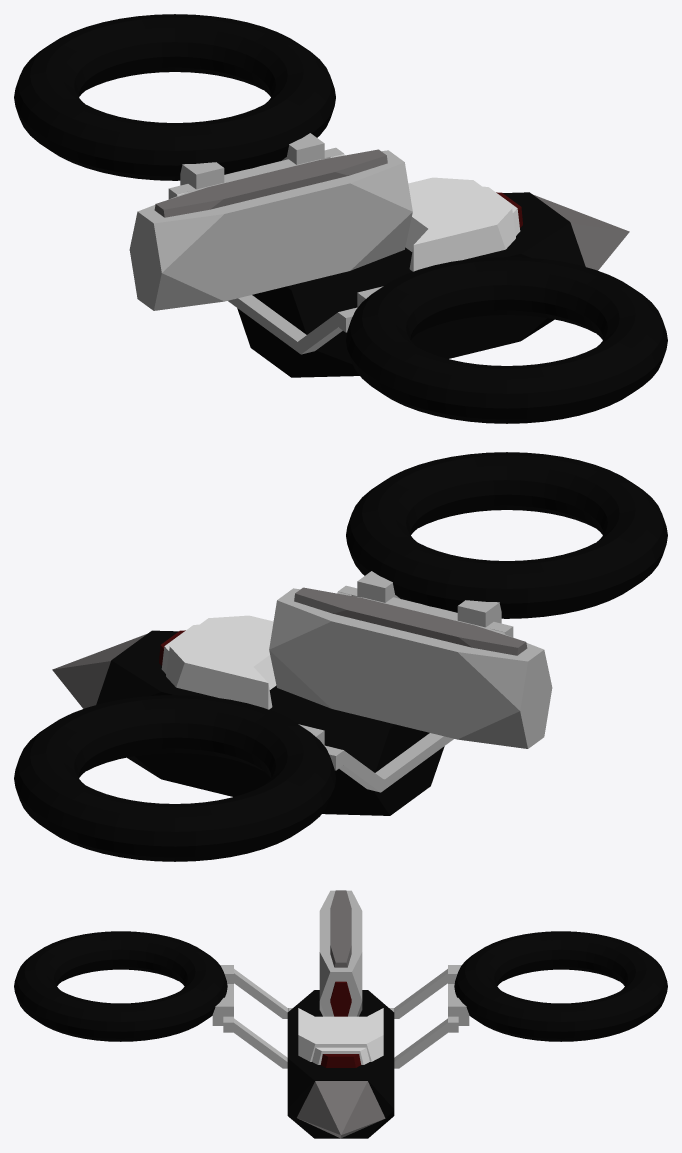
File: DroneChassis.fbx
The picture shows the model from 3 angles, top to bottom: view 1: azimuth 30°, elevation 25°; view 2: azimuth 150°, elevation 25°; view 3: azimuth 270°, elevation 25°; orthographic projection. The views are drawn at different scales.
Visible parts, largest first — view 1: Drone Prop Left, Drone Prop Right, Chassis Base 2, Chassis Base, Cockpit1, Chassis Base 4, Chassis Rail 2, Cone, Chassis Rail Right 3, Chassis Rail Right 1, Chassis Rail Right 2; view 2: Drone Prop Right, Drone Prop Left, Chassis Base 2, Chassis Base, Cockpit1, Chassis Base 4, Chassis Rail 2, Cone, Chassis Rail Left 3, Chassis Rail Left 1, Chassis Rail Left 2; view 3: Drone Prop Right, Drone Prop Left, Chassis Base, Cone, Chassis Base 2, Cockpit1, Chassis Rail 2, Chassis Rail 1, Chassis Base 4, Chassis Base 3, Cockpit 2, Cockpit 3 (+2 smaller).
Part boxes in pixels (x1=…): Drone Prop Left: x1=346, y1=257, x2=667, y2=423; Drone Prop Right: x1=14, y1=14, x2=335, y2=180; Chassis Base 2: x1=129, y1=150, x2=412, y2=310; Chassis Base: x1=237, y1=192, x2=585, y2=377; Cockpit1: x1=405, y1=177, x2=515, y2=271; Chassis Base 4: x1=154, y1=149, x2=387, y2=217; Chassis Rail 2: x1=176, y1=191, x2=342, y2=354; Cone: x1=533, y1=194, x2=629, y2=270; Chassis Rail Right 3: x1=180, y1=162, x2=224, y2=189; Chassis Rail Right 1: x1=168, y1=147, x2=343, y2=199; Chassis Rail Right 2: x1=281, y1=133, x2=324, y2=164; Drone Prop Right: x1=14, y1=695, x2=335, y2=861; Drone Prop Left: x1=346, y1=452, x2=667, y2=618; Chassis Base 2: x1=269, y1=588, x2=552, y2=748; Chassis Base: x1=96, y1=630, x2=444, y2=815; Cockpit1: x1=166, y1=615, x2=276, y2=709; Chassis Base 4: x1=294, y1=587, x2=527, y2=655; Chassis Rail 2: x1=339, y1=629, x2=505, y2=792; Cone: x1=52, y1=633, x2=147, y2=708; Chassis Rail Left 3: x1=457, y1=600, x2=501, y2=627; Chassis Rail Left 1: x1=338, y1=585, x2=513, y2=637; Chassis Rail Left 2: x1=357, y1=571, x2=400, y2=602; Drone Prop Right: x1=454, y1=931, x2=667, y2=1041; Drone Prop Left: x1=14, y1=931, x2=227, y2=1041; Chassis Base: x1=287, y1=990, x2=394, y2=1138; Cone: x1=297, y1=1081, x2=385, y2=1138; Chassis Base 2: x1=319, y1=890, x2=362, y2=1016; Cockpit1: x1=298, y1=1008, x2=383, y2=1061; Chassis Rail 2: x1=234, y1=969, x2=447, y2=1018; Chassis Rail 1: x1=234, y1=1018, x2=447, y2=1068; Chassis Base 4: x1=330, y1=890, x2=351, y2=967; Chassis Base 3: x1=330, y1=981, x2=351, y2=1016; Cockpit 2: x1=312, y1=1047, x2=369, y2=1064; Cockpit 3: x1=320, y1=1054, x2=361, y2=1067.
Size of the model in its own units: 347 by 126 by 612.
